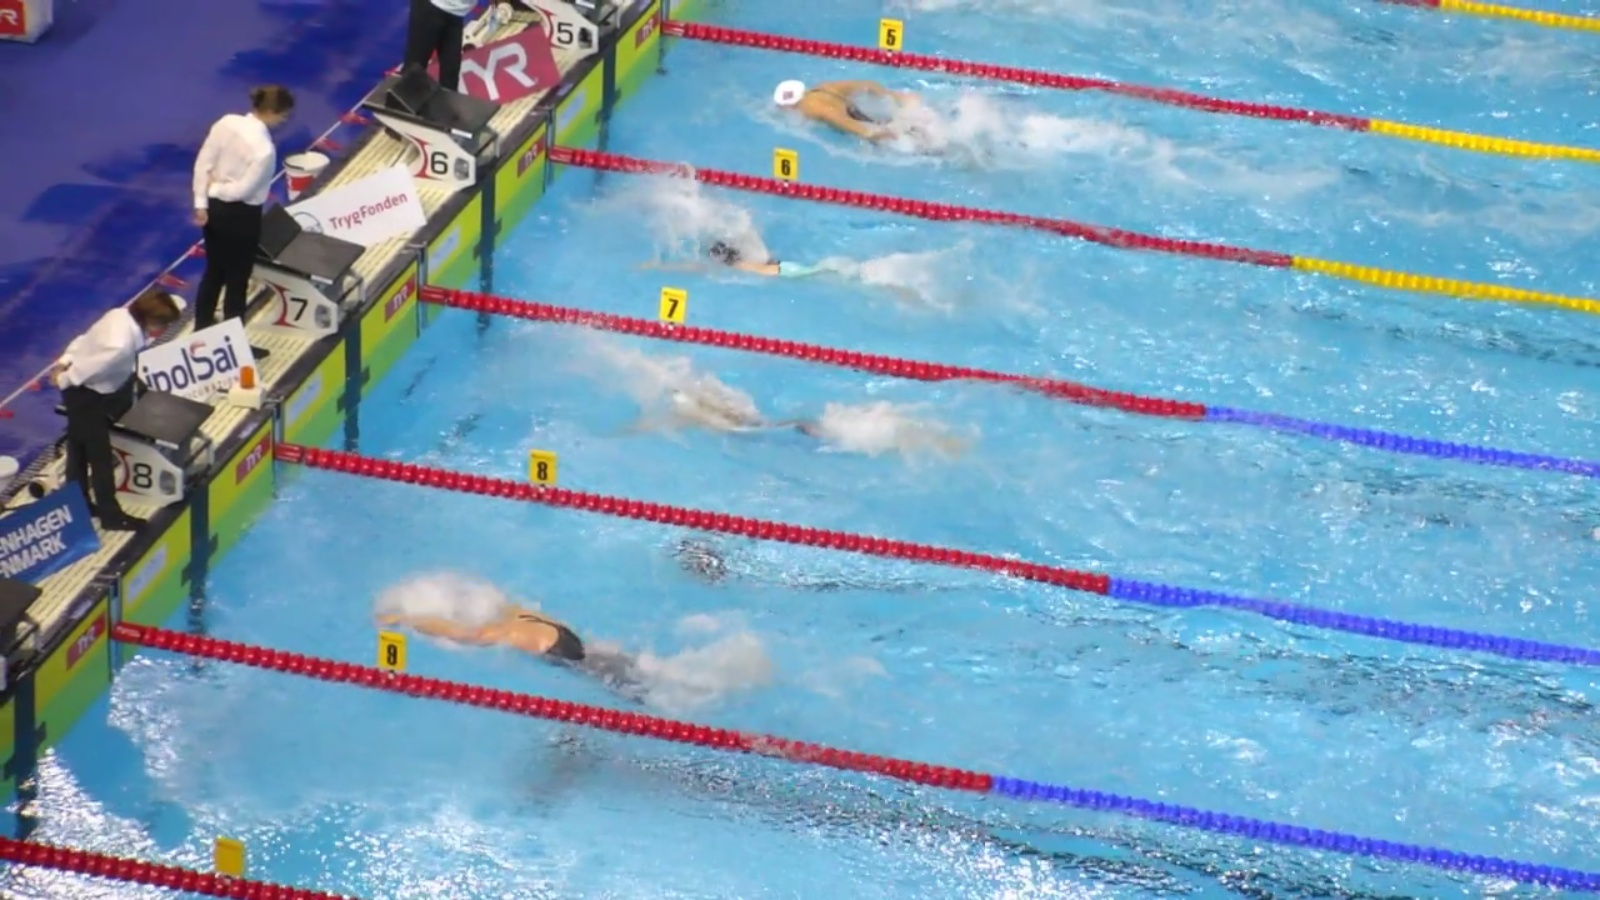swimmerw: (397, 584, 713, 713), (765, 67, 1018, 175), (626, 375, 945, 459), (638, 236, 925, 299)
